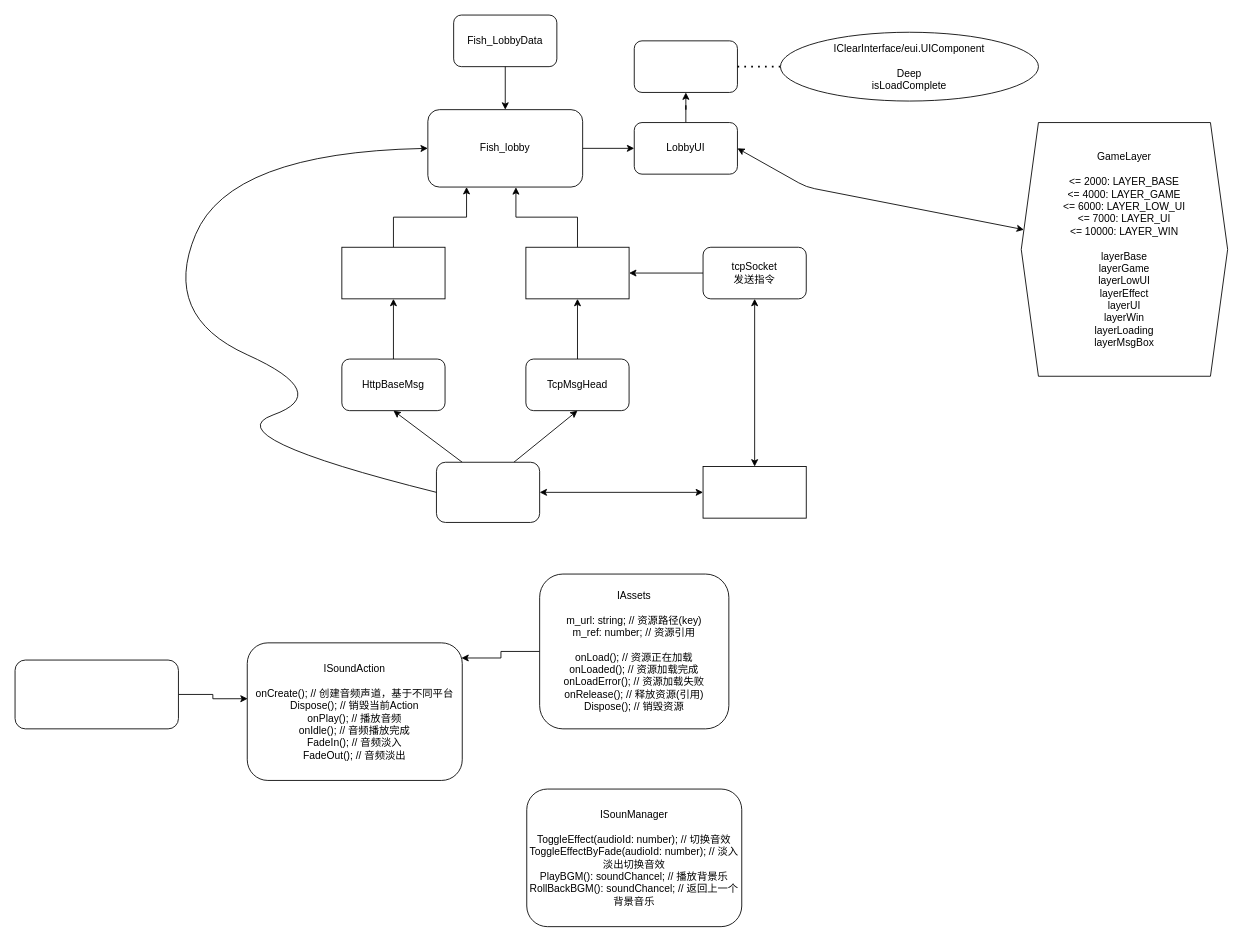
Image size: 1243x942. Some labels were removed from this diagram. Here are the shapes that lost their labels. From the top down, the centre of each, then its label:
[685,66]: BaseUI
[393,272]: Fish_LobbyRes
[577,272]: Fish_LobbyReq
[488,491]: ActionHandler
[754,492]: MsgClassSerializer 消息序列化类
[96,694]: ISoundPlugin GameAudio; // 混音插件
